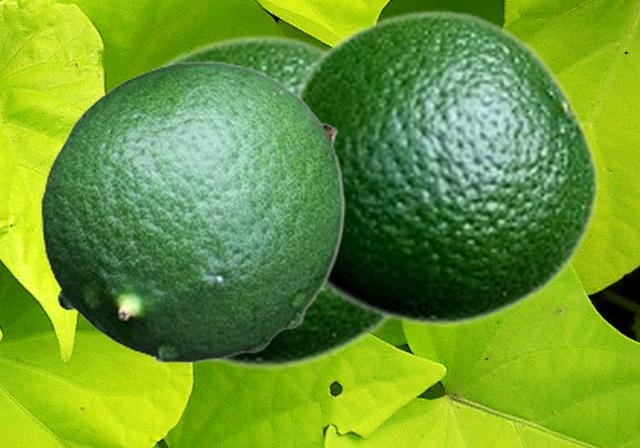calamansi: (291, 8, 600, 328), (40, 60, 344, 362), (152, 33, 390, 371)
